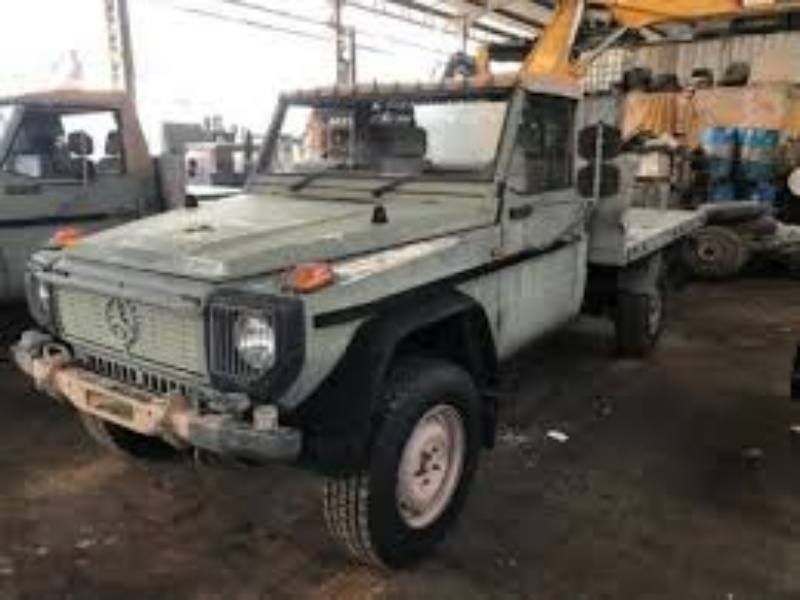jeep: (7, 77, 706, 574)
